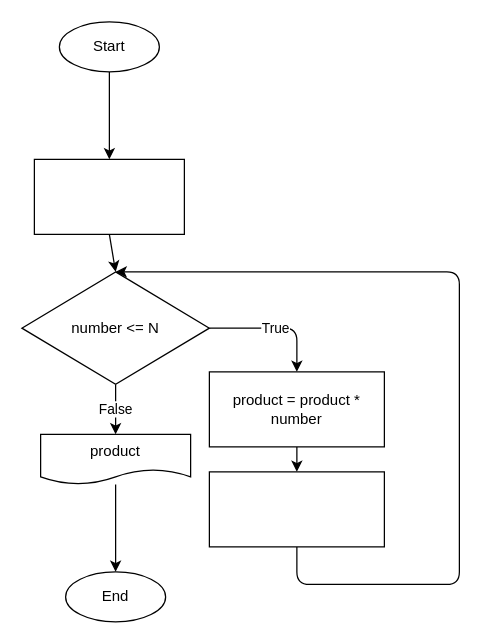
Some shapes in this 491 by 644 pixel diagram are drawn without their labels. Here are the shapes that lost their labels. From the top down, the box of each, then its label:
(33, 158, 184, 234): var N = input N product = 1
(208, 471, 384, 547): number = number + 1
